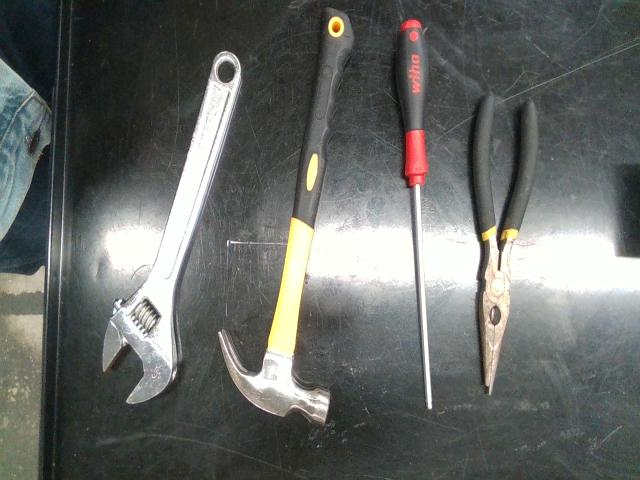Adjustable spanner: (102, 52, 241, 403)
Hammer: (219, 8, 354, 424)
Needle-nose pliers: (472, 93, 539, 394)
Screwdriver: (396, 20, 432, 409)
